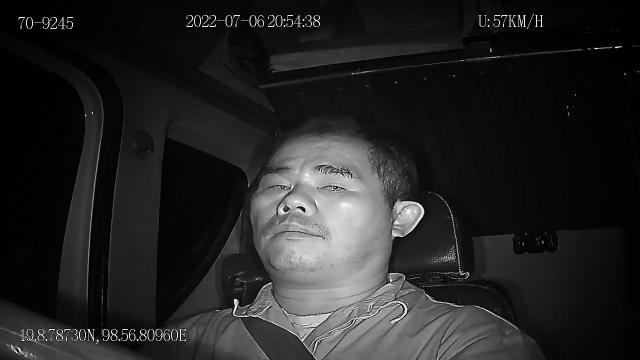SafeDriving: (308, 169, 356, 198), (256, 172, 296, 196)
Seatbelt: (219, 272, 319, 360)
